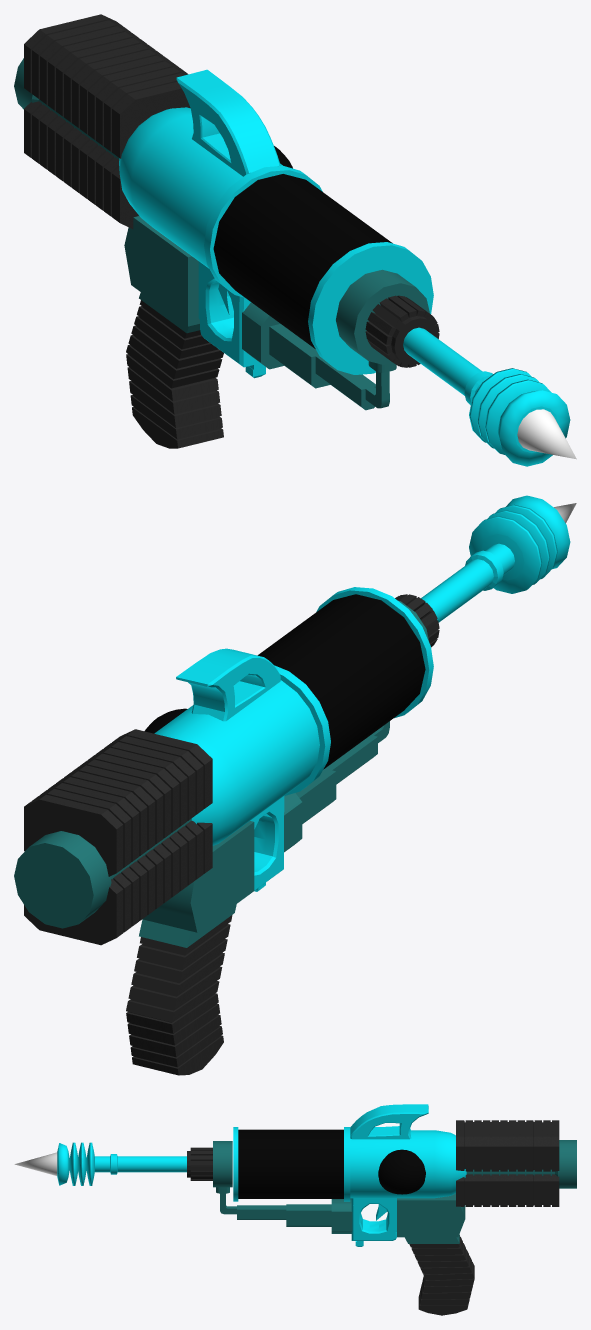
File: Gun Final.fbx
The picture shows the model from 3 angles, top to bottom: view 1: azimuth 30°, elevation 25°; view 2: azimuth 150°, elevation 25°; view 3: azimuth 270°, elevation 25°; orthographic projection. The views are drawn at different scales.
Parts seen in each view (by area): view 1: Cuerpo; view 2: Cuerpo; view 3: Cuerpo.
Boxes of the visible parts, bbox=[...] form: Cuerpo: bbox=[14, 14, 576, 466]; Cuerpo: bbox=[14, 495, 576, 1075]; Cuerpo: bbox=[14, 1104, 576, 1315].
Bounding box in the file's own units: 0.205 × 0.5514 × 1.4.
5 materials, 3 textured.
